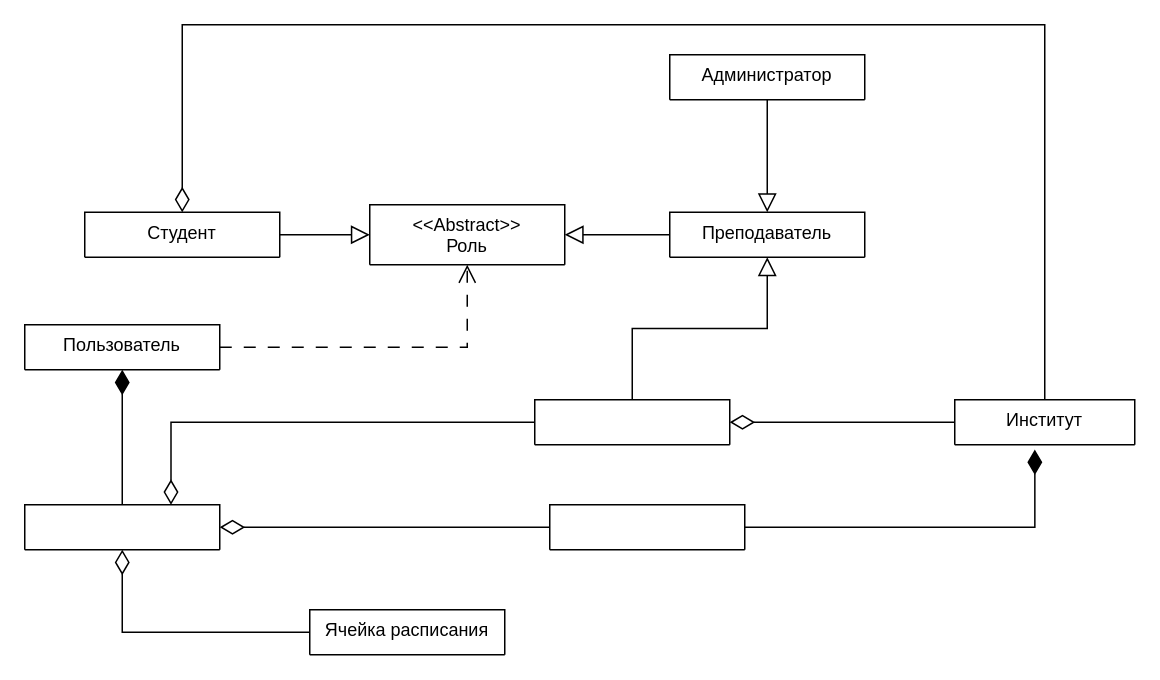
Image size: 1160x680. Some labels were removed from this diagram. Here are the shapes that lost their labels. From the top down, the centre of each, then its label:
point 631,421: Деканат
point 121,526: Заявка
point 646,526: Ключ
